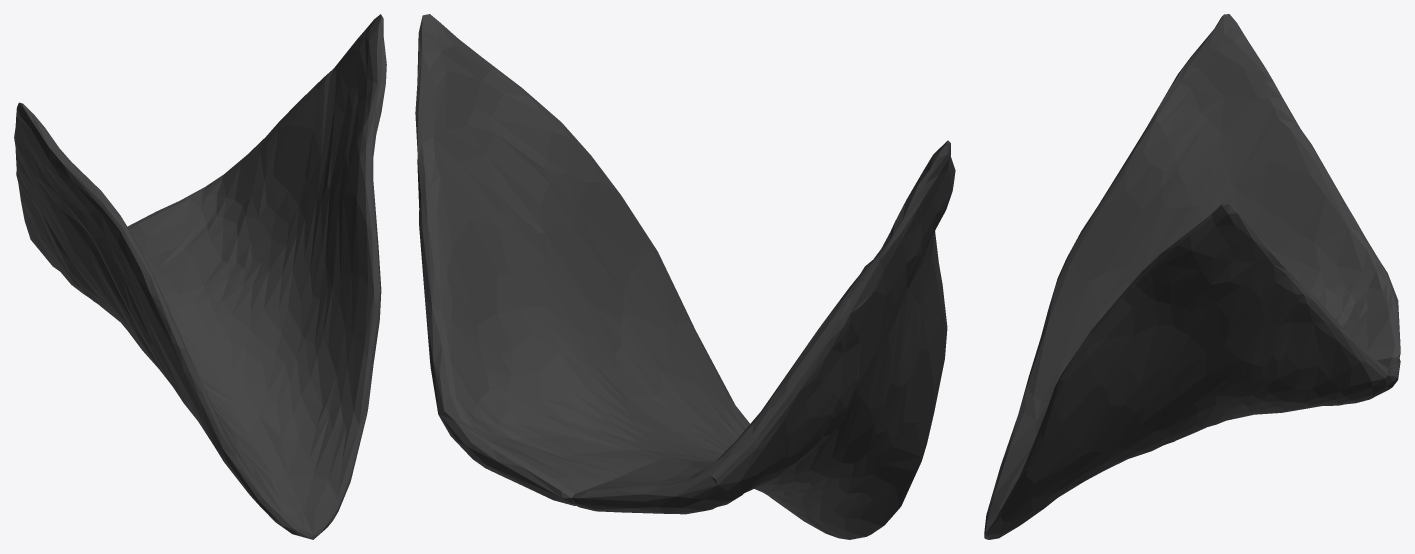
Rendered from m_trapezius_pars_cervicalis.glb.
3 views of the same model, side by side, from view 1: azimuth 30°, elevation 25°; view 2: azimuth 150°, elevation 25°; view 3: azimuth 270°, elevation 25° (orthographic). The views are drawn at different scales.
Visible parts, largest first — view 1: m_trapezius_pars_cervicalis; view 2: m_trapezius_pars_cervicalis; view 3: m_trapezius_pars_cervicalis.
Boxes of the visible parts, x1,y1,x2,y2 form: m_trapezius_pars_cervicalis: (14, 14, 386, 539); m_trapezius_pars_cervicalis: (415, 14, 955, 539); m_trapezius_pars_cervicalis: (984, 14, 1400, 539).
Size of the model in its own units: 0.00388 by 0.00406 by 0.00356.
1 material, 1 textured.
